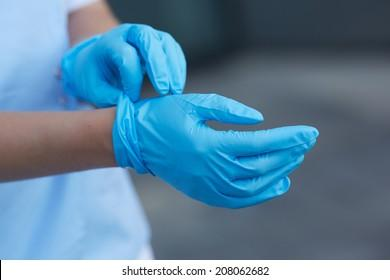gloves: (114, 92, 321, 208), (60, 23, 188, 108)
